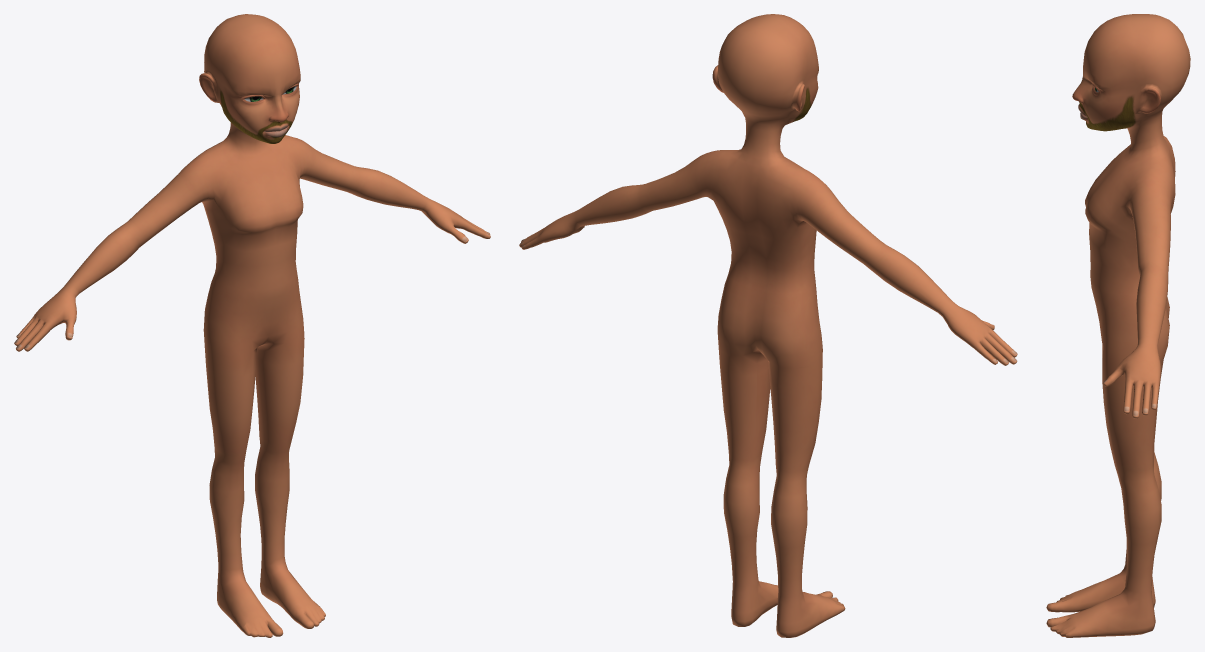
Rendered from frame_0073.glb.
3 views of the same model, side by side, from view 1: azimuth 30°, elevation 25°; view 2: azimuth 150°, elevation 25°; view 3: azimuth 270°, elevation 25° (orthographic). The views are drawn at different scales.
Parts seen in each view (by area): view 1: frame_0073_head_geo; view 2: frame_0073_head_geo; view 3: frame_0073_head_geo.
Part boxes in pixels (x1,y1,x2,y2): frame_0073_head_geo: (14, 14, 490, 637); frame_0073_head_geo: (519, 14, 1017, 637); frame_0073_head_geo: (1046, 14, 1190, 637).
Bounding box in the file's own units: 1.28 × 1.5 × 0.3253.
3 materials, 3 textured.
